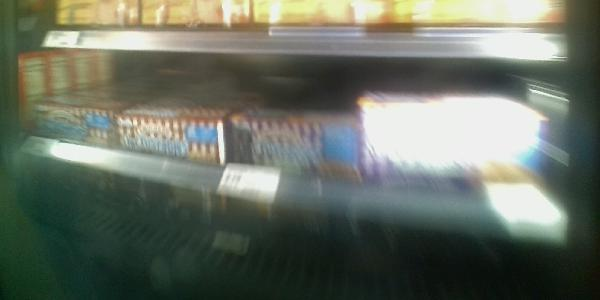icecream: (358, 91, 547, 182), (229, 110, 361, 175), (119, 110, 229, 166), (25, 93, 119, 147)
